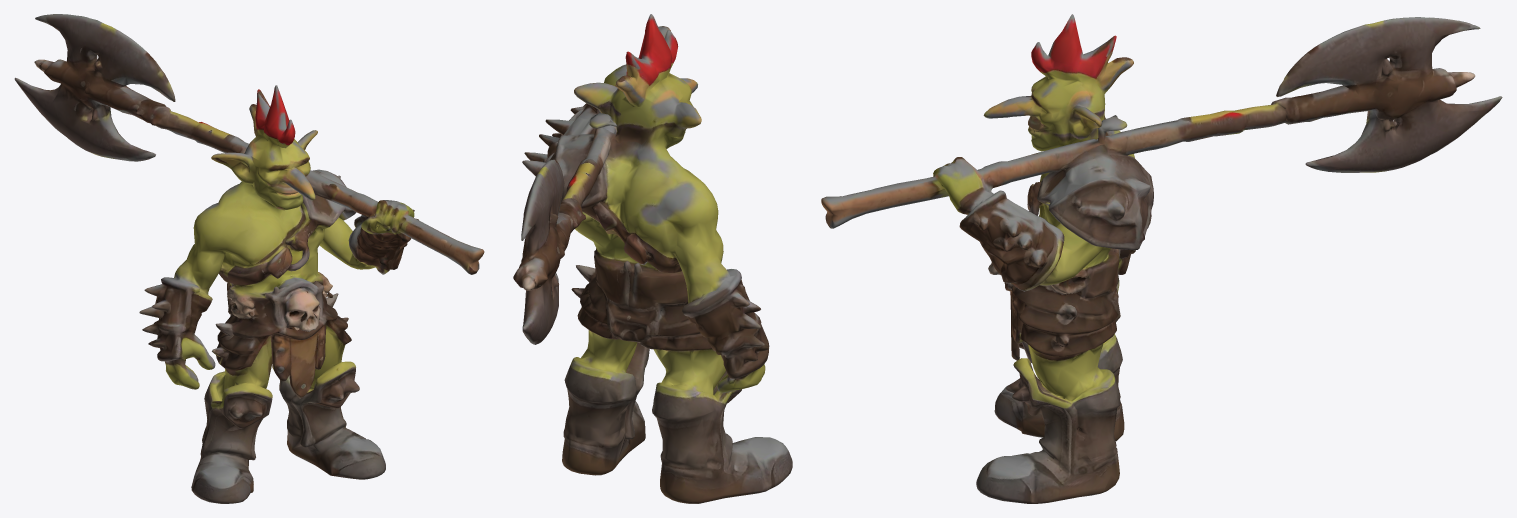
The model's file is soldado.glb.
The picture shows the model from 3 angles, left to right: view 1: azimuth 30°, elevation 25°; view 2: azimuth 150°, elevation 25°; view 3: azimuth 270°, elevation 25°; orthographic projection. The views are drawn at different scales.
Parts seen in each view (by area): view 1: tripo_node_18416a6a-d3b1-410d-afa6-2c36593a35e2; view 2: tripo_node_18416a6a-d3b1-410d-afa6-2c36593a35e2; view 3: tripo_node_18416a6a-d3b1-410d-afa6-2c36593a35e2.
Part boxes in pixels (box(x1,y1,x2,y2)): tripo_node_18416a6a-d3b1-410d-afa6-2c36593a35e2: box(14, 14, 484, 503); tripo_node_18416a6a-d3b1-410d-afa6-2c36593a35e2: box(513, 14, 792, 503); tripo_node_18416a6a-d3b1-410d-afa6-2c36593a35e2: box(821, 14, 1502, 503).
Size of the model in its own units: 0.4642 by 0.7289 by 0.9994.
Materials: 1 (1 with a texture image).
